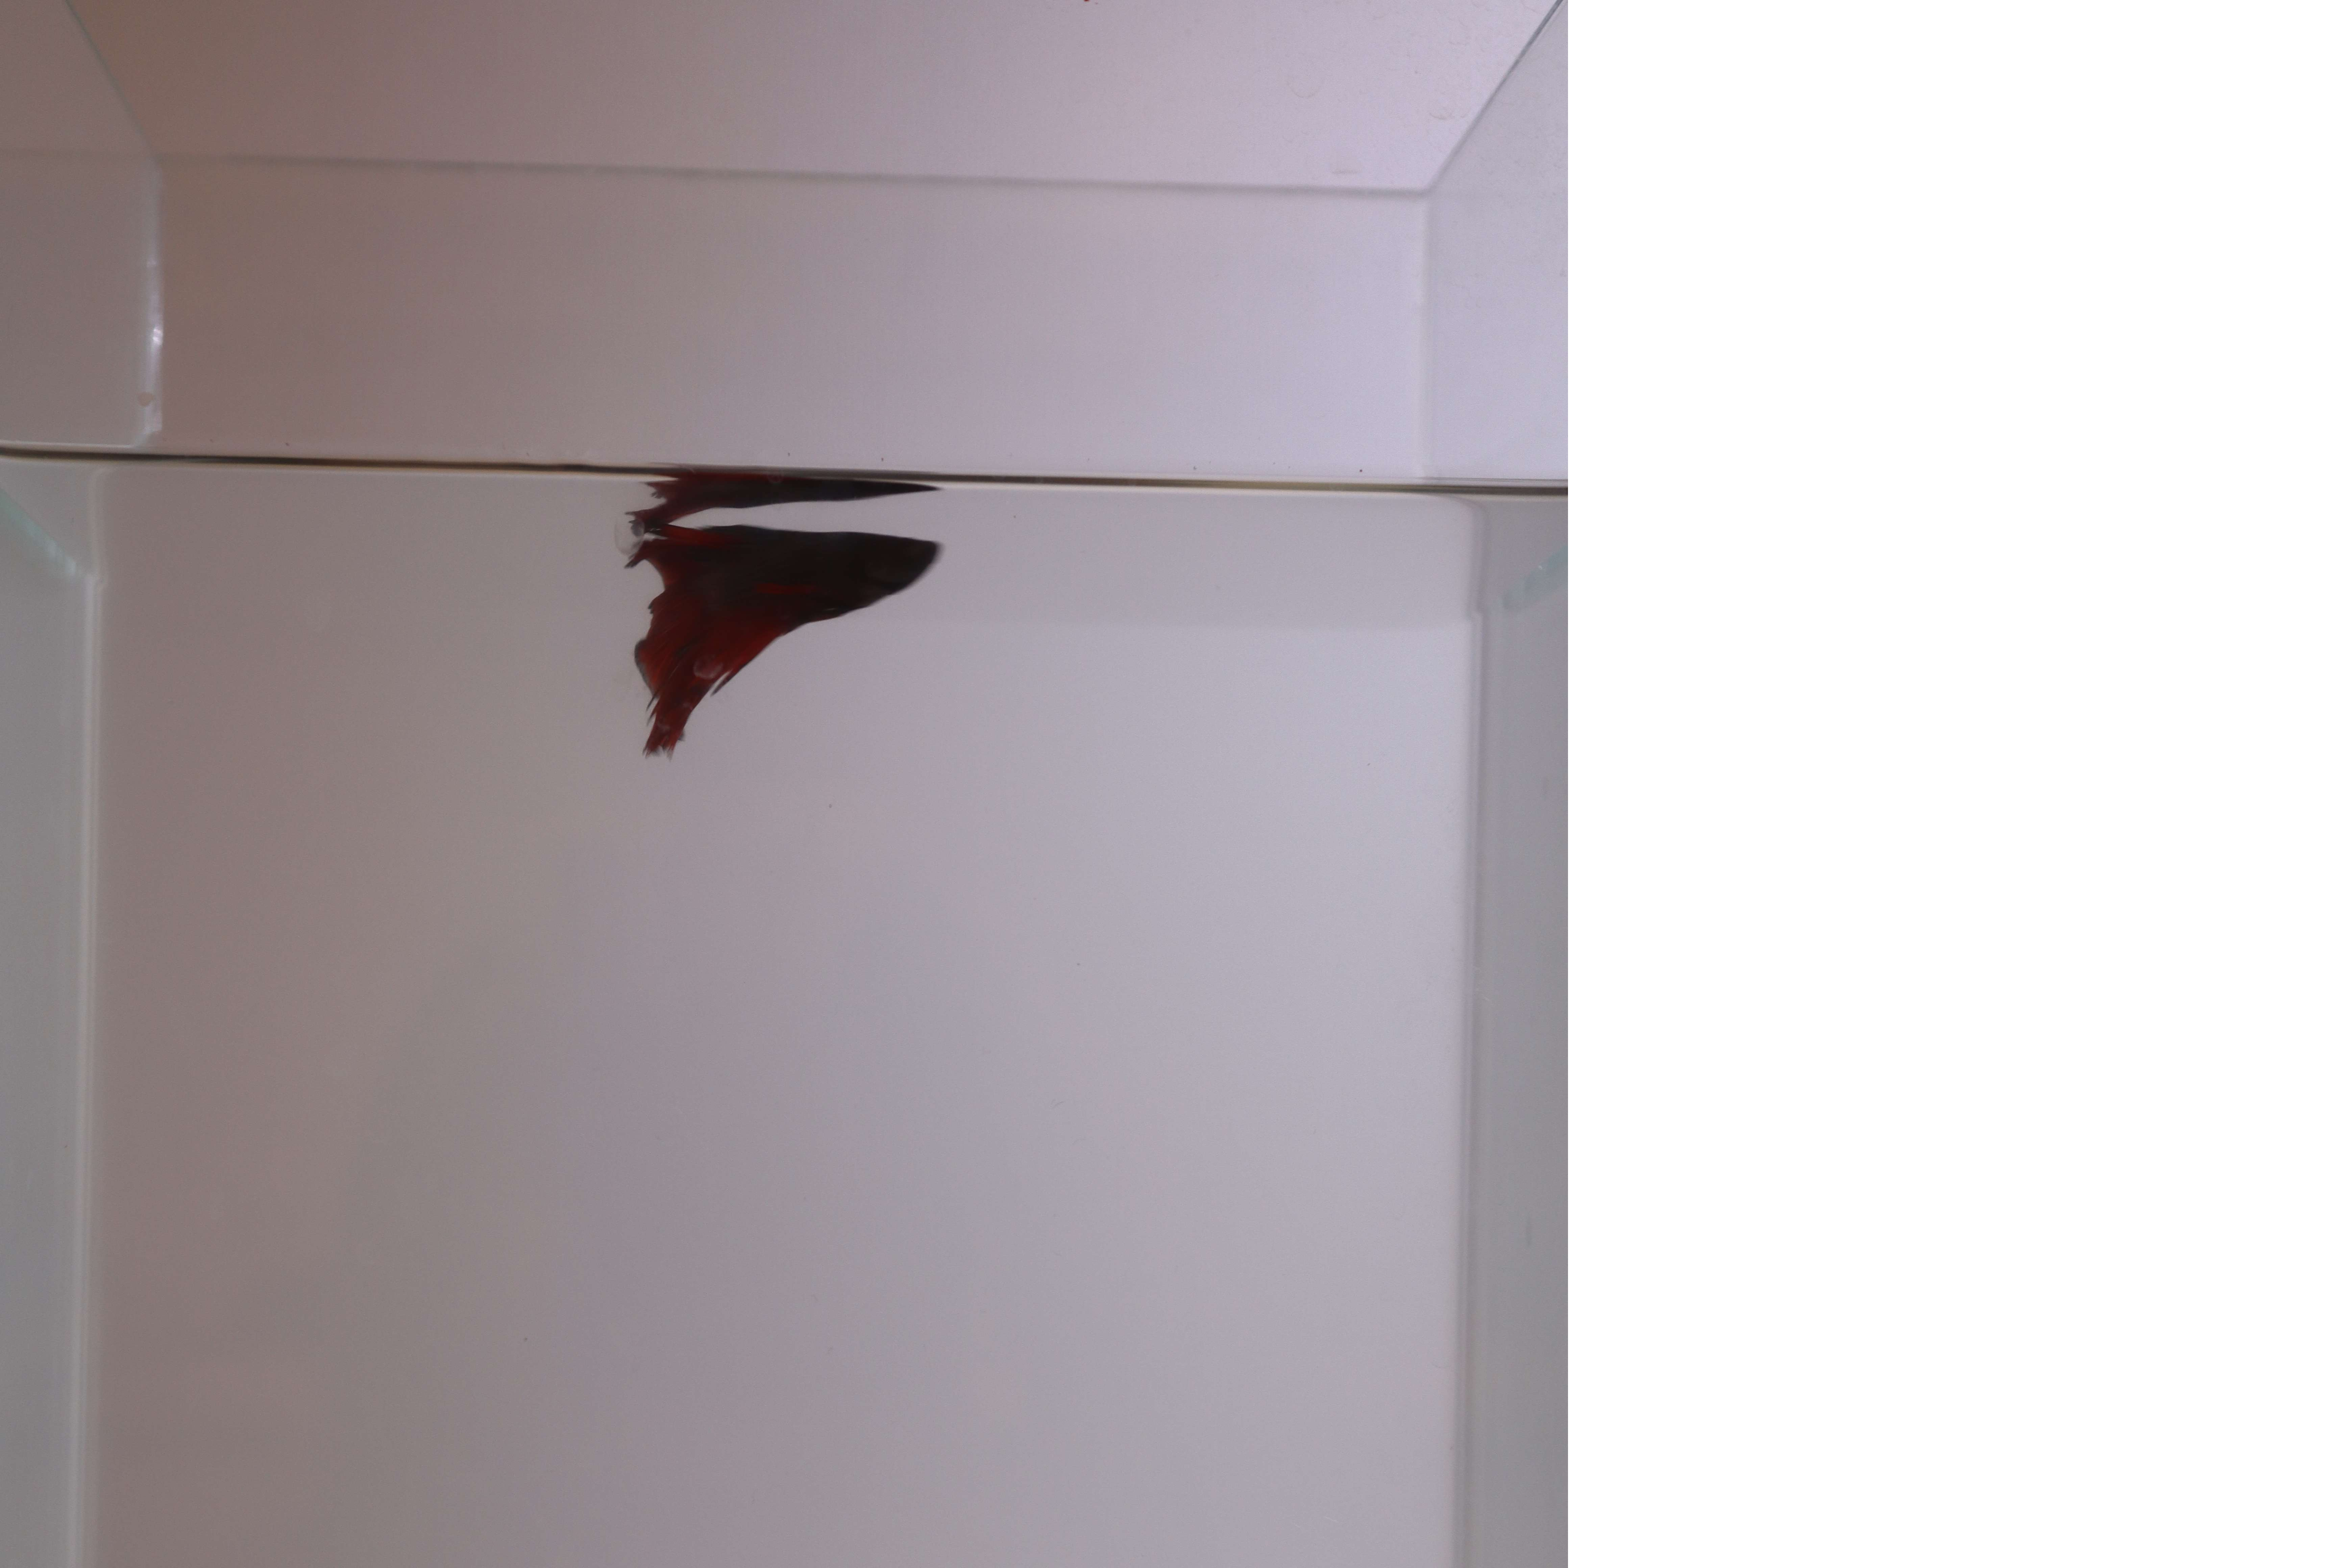fish: (600, 518, 971, 768)
